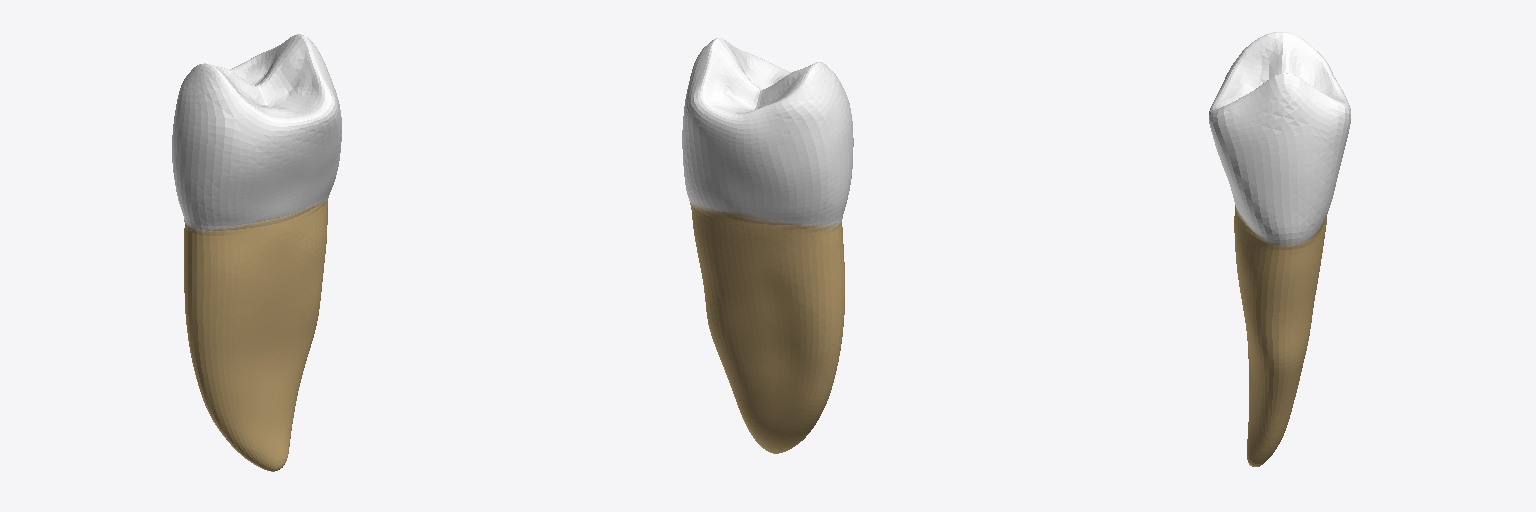
3 views of the same model, side by side, from view 1: azimuth 30°, elevation 25°; view 2: azimuth 150°, elevation 25°; view 3: azimuth 270°, elevation 25° (orthographic).
Parts seen in each view (by area): view 1: outer; view 2: outer; view 3: outer.
Boxes of the visible parts, <box> form: outer: <box>172,34,341,471</box>; outer: <box>682,38,853,453</box>; outer: <box>1209,32,1350,466</box>.
Size of the model in its own units: 3.67 by 9.51 by 2.97.
Materials: 2 (1 with a texture image).